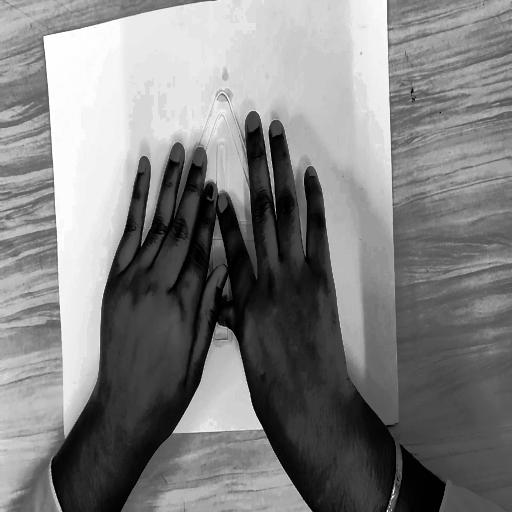bottom_left: (62, 436, 69, 445)
bottom_right: (396, 413, 405, 430)
signboard: (155, 73, 292, 361)
top_left: (41, 33, 47, 45)
